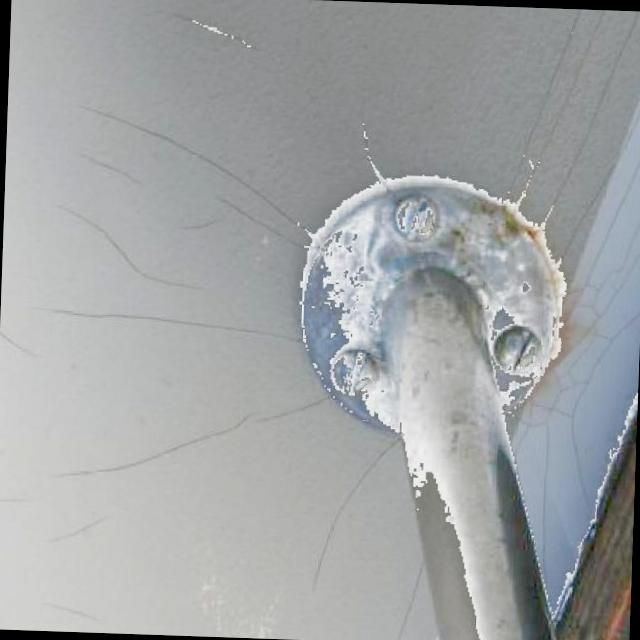crack: (49, 98, 330, 228), (54, 394, 333, 492), (10, 289, 296, 368), (41, 208, 200, 292), (316, 447, 404, 593), (45, 161, 156, 185)
